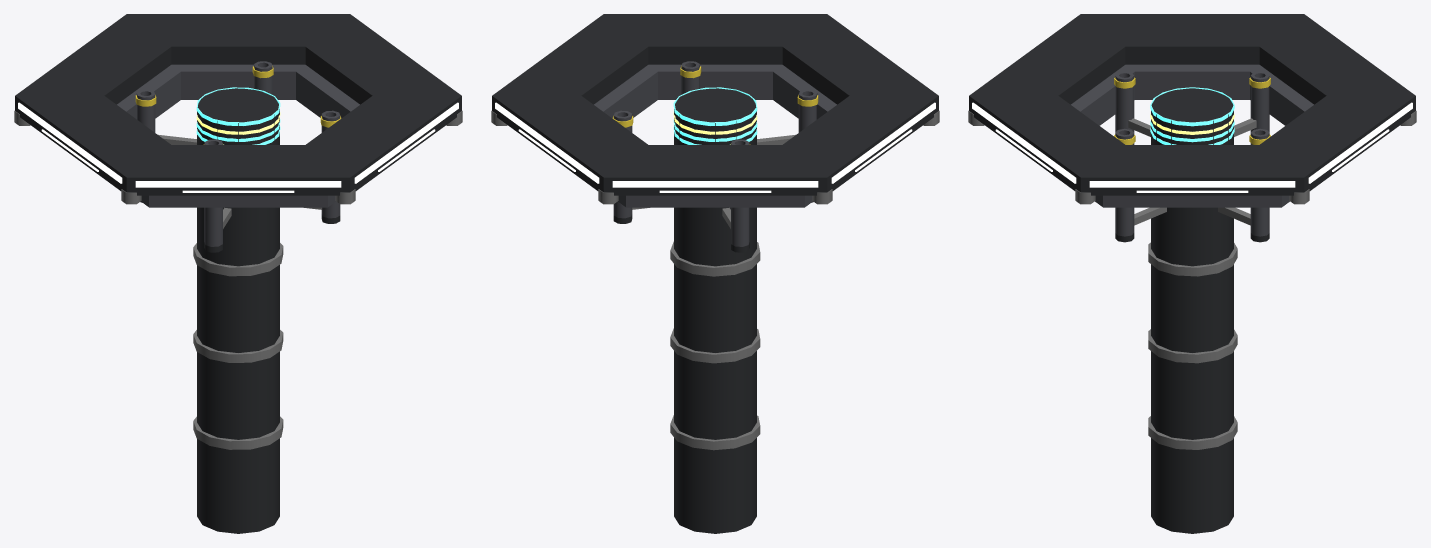
File: Relay_Lift_Base_v3.glb
3 renders of one model, left to right at view 1: azimuth 30°, elevation 25°; view 2: azimuth 150°, elevation 25°; view 3: azimuth 270°, elevation 25°, orthographic.
Parts seen in each view (by area): view 1: Relay_Lift_Base_v3; view 2: Relay_Lift_Base_v3; view 3: Relay_Lift_Base_v3.
Boxes of the visible parts, left/top/right/bottom form: Relay_Lift_Base_v3: left=14, top=14, right=462, bottom=533; Relay_Lift_Base_v3: left=491, top=14, right=939, bottom=533; Relay_Lift_Base_v3: left=968, top=14, right=1416, bottom=533.
Size of the model in its own units: 12.22 by 14.54 by 14.04.
